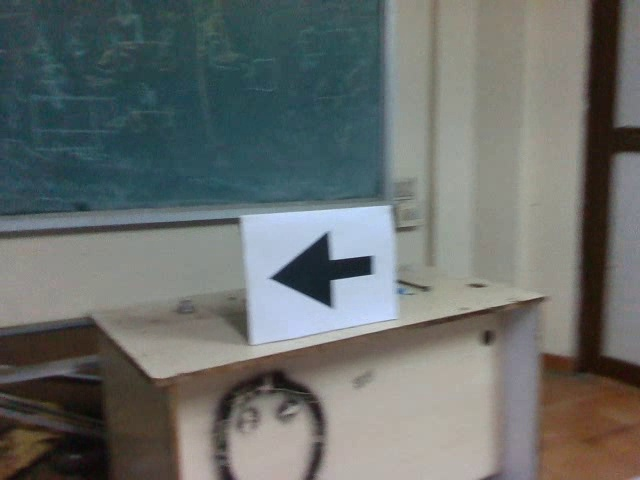Left: (259, 229, 376, 311)
